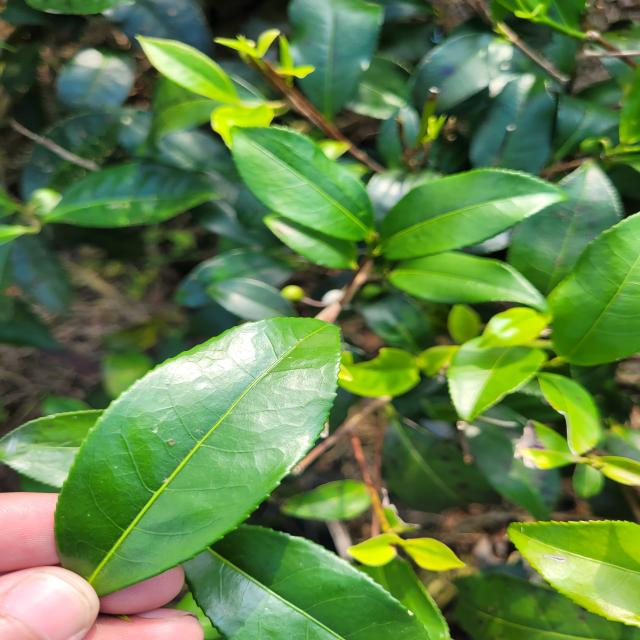Category D(7+ days, Not for Tea): (41, 298, 362, 600)
